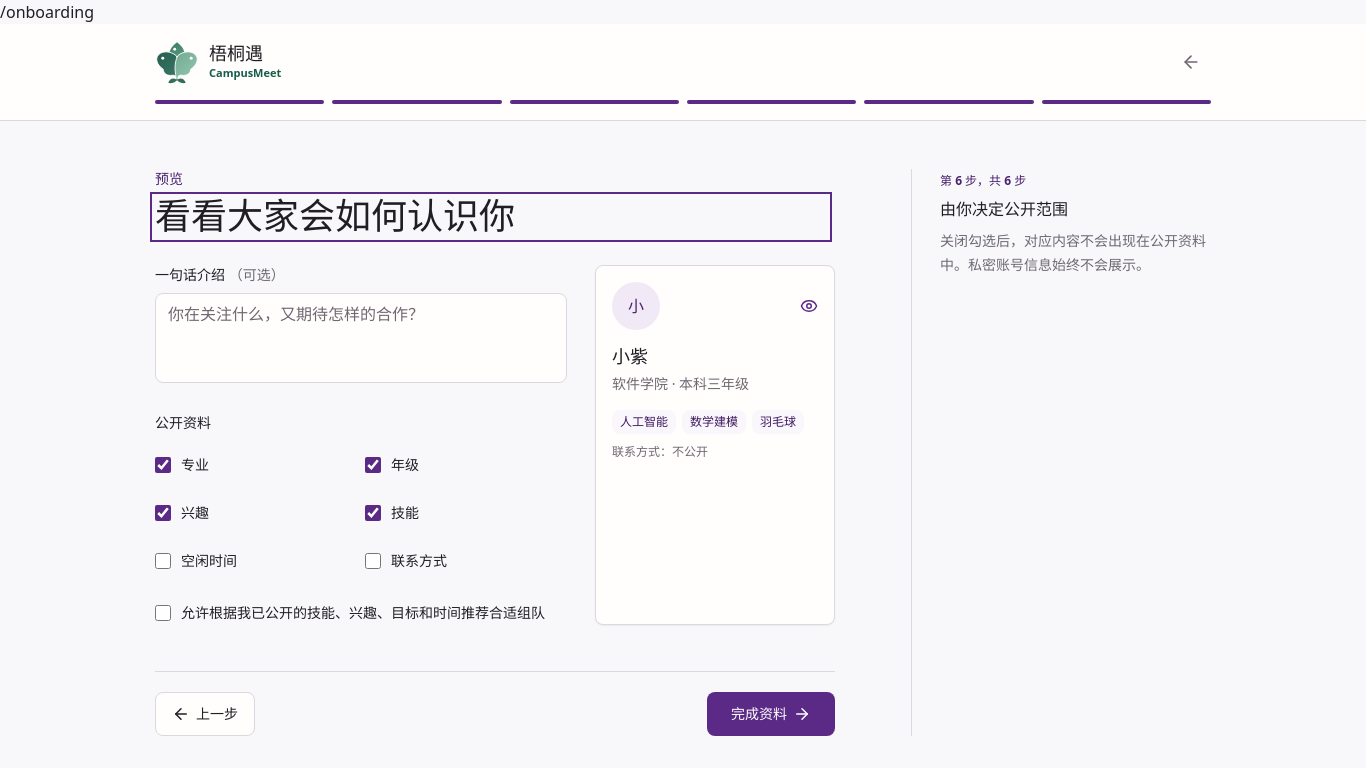
Test: application route guards › stores the authoritative completed user before the first home navigation
Click the button "完成资料". click: click(771, 714)
box: [707,692,835,736]
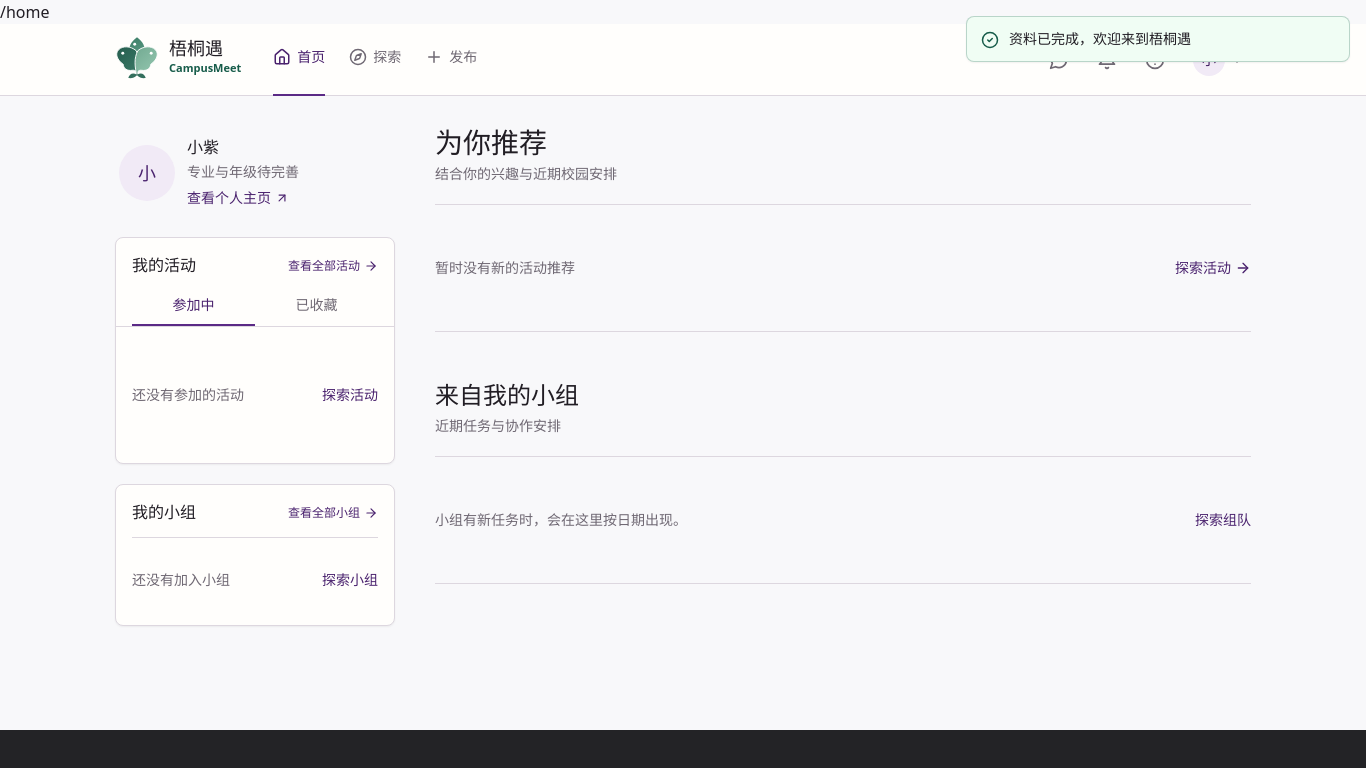
Check: the text with test id "route-location" reads "/home", box [0,1,50,23]
